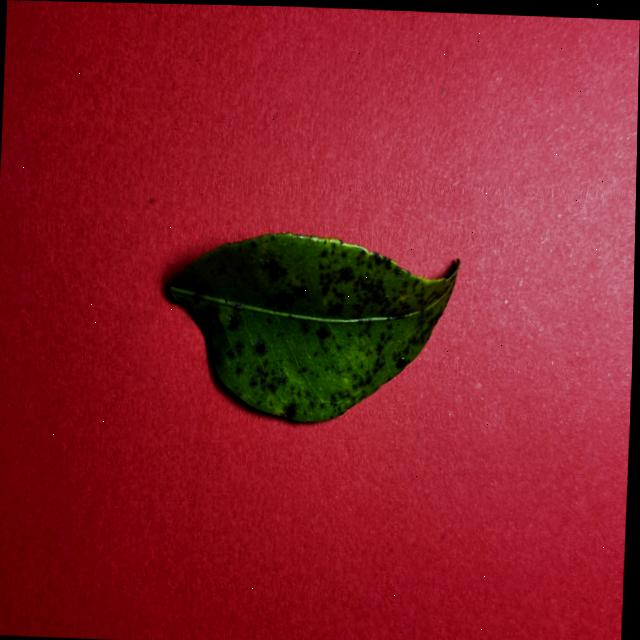sooty_mold: (169, 233, 458, 421)
